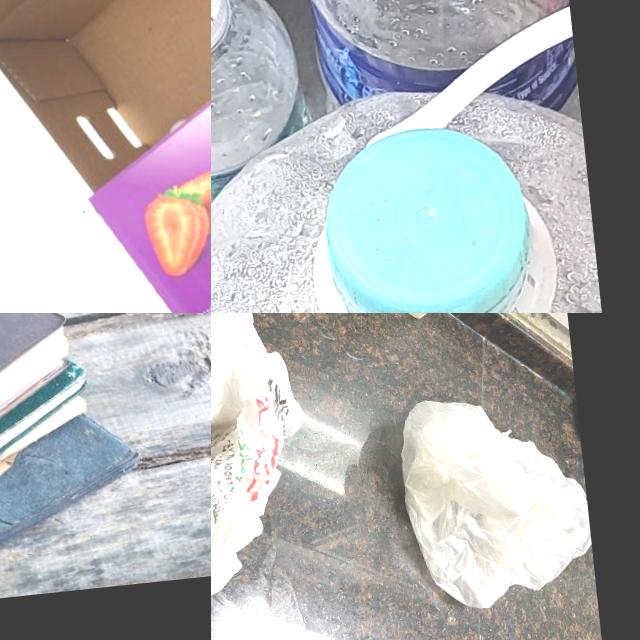garrafa plástica: (211, 73, 605, 313), (277, 0, 584, 178), (211, 0, 336, 234)
papel: (0, 313, 149, 578)
papelão: (0, 0, 211, 313)
sacola plástica: (394, 385, 597, 617), (211, 313, 324, 614)
tampa plástica: (316, 120, 542, 313)
